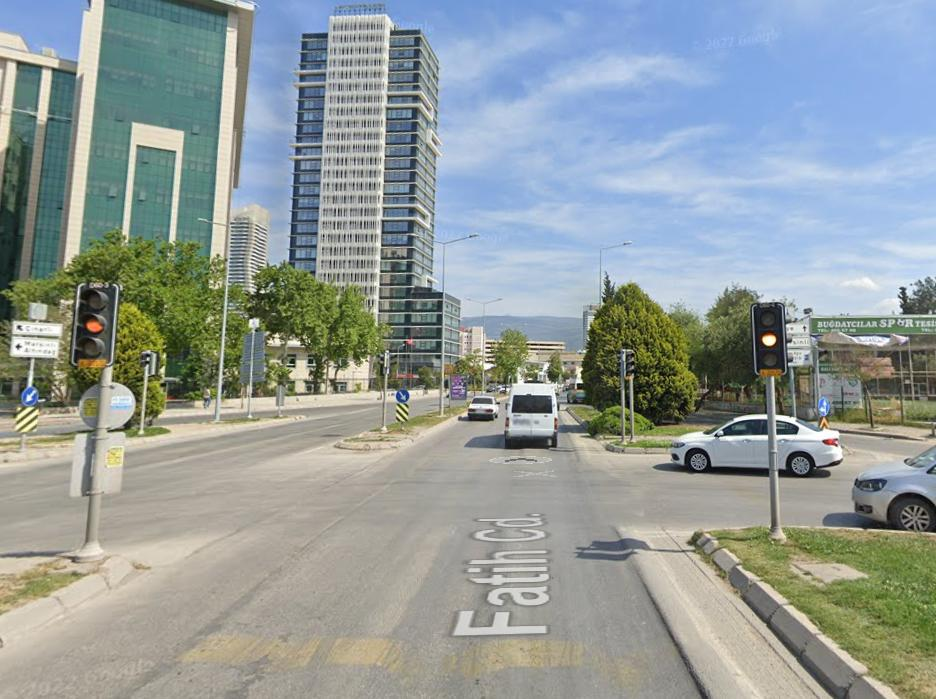yellowlight: (76, 284, 110, 364), (754, 303, 786, 372)
